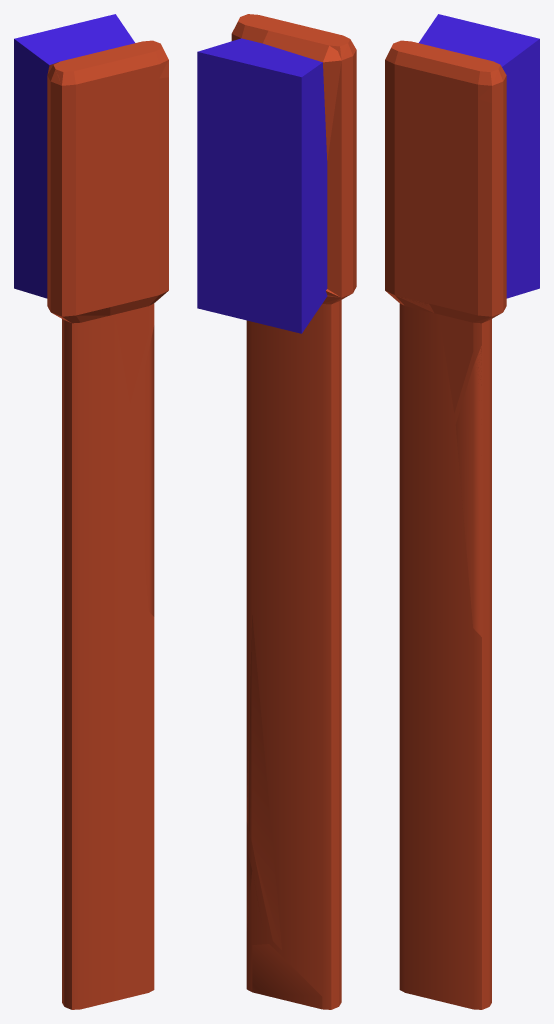
Rendered from P_BrosseADent_Colored_Breakable.fbx.
3 views of the same model, side by side, from view 1: azimuth 30°, elevation 25°; view 2: azimuth 150°, elevation 25°; view 3: azimuth 330°, elevation 25° (orthographic). The views are drawn at different scales.
Visible parts, largest first — view 1: P_BrosseADent_Colored_Breakable, P_BrosseADent_Colored_Breakable_cell.009, P_BrosseADent_Colored_Breakable_cell.012, P_BrosseADent_Colored_Breakable_cell.007, P_BrosseADent_Colored_Breakable_cell.002, P_BrosseADent_Colored_Breakable_cell.003, P_BrosseADent_Colored_Breakable_cell.006, P_BrosseADent_Colored_Breakable_cell.010, P_BrosseADent_Colored_Breakable_cell.008, P_BrosseADent_Colored_Breakable_cell.013; view 2: P_BrosseADent_Colored_Breakable, P_BrosseADent_Colored_Breakable_cell.004, P_BrosseADent_Colored_Breakable_cell.009, P_BrosseADent_Colored_Breakable_cell.012, P_BrosseADent_Colored_Breakable_cell.007, P_BrosseADent_Colored_Breakable_cell.001, P_BrosseADent_Colored_Breakable_cell.010; view 3: P_BrosseADent_Colored_Breakable, P_BrosseADent_Colored_Breakable_cell.009, P_BrosseADent_Colored_Breakable_cell.002, P_BrosseADent_Colored_Breakable_cell.012, P_BrosseADent_Colored_Breakable_cell.003, P_BrosseADent_Colored_Breakable_cell.006, P_BrosseADent_Colored_Breakable_cell.007, P_BrosseADent_Colored_Breakable_cell.013, P_BrosseADent_Colored_Breakable_cell.010, P_BrosseADent_Colored_Breakable_cell.008.
Part boxes in pixels (<box>): P_BrosseADent_Colored_Breakable: <box>14,17,168,1009</box>; P_BrosseADent_Colored_Breakable_cell.009: <box>18,62,157,188</box>; P_BrosseADent_Colored_Breakable_cell.012: <box>14,147,116,308</box>; P_BrosseADent_Colored_Breakable_cell.007: <box>14,18,113,135</box>; P_BrosseADent_Colored_Breakable_cell.002: <box>131,325,154,616</box>; P_BrosseADent_Colored_Breakable_cell.003: <box>110,166,155,281</box>; P_BrosseADent_Colored_Breakable_cell.006: <box>112,277,159,405</box>; P_BrosseADent_Colored_Breakable_cell.010: <box>102,14,168,78</box>; P_BrosseADent_Colored_Breakable_cell.008: <box>52,284,110,322</box>; P_BrosseADent_Colored_Breakable_cell.013: <box>159,87,168,162</box>; P_BrosseADent_Colored_Breakable: <box>197,14,356,1009</box>; P_BrosseADent_Colored_Breakable_cell.004: <box>246,615,281,949</box>; P_BrosseADent_Colored_Breakable_cell.009: <box>263,30,356,180</box>; P_BrosseADent_Colored_Breakable_cell.012: <box>301,158,356,319</box>; P_BrosseADent_Colored_Breakable_cell.007: <box>215,45,321,172</box>; P_BrosseADent_Colored_Breakable_cell.001: <box>252,944,322,1009</box>; P_BrosseADent_Colored_Breakable_cell.010: <box>198,14,266,54</box>; P_BrosseADent_Colored_Breakable: <box>385,34,539,1009</box>; P_BrosseADent_Colored_Breakable_cell.009: <box>385,60,515,183</box>; P_BrosseADent_Colored_Breakable_cell.002: <box>455,346,481,636</box>; P_BrosseADent_Colored_Breakable_cell.012: <box>385,166,435,282</box>; P_BrosseADent_Colored_Breakable_cell.003: <box>429,182,474,288</box>; P_BrosseADent_Colored_Breakable_cell.006: <box>431,288,477,412</box>; P_BrosseADent_Colored_Breakable_cell.007: <box>419,14,522,58</box>; P_BrosseADent_Colored_Breakable_cell.013: <box>478,113,503,186</box>; P_BrosseADent_Colored_Breakable_cell.010: <box>470,35,539,114</box>; P_BrosseADent_Colored_Breakable_cell.008: <box>386,278,433,312</box>.
Bounding box in the file's own units: 5.43 × 42.45 × 4.32.
